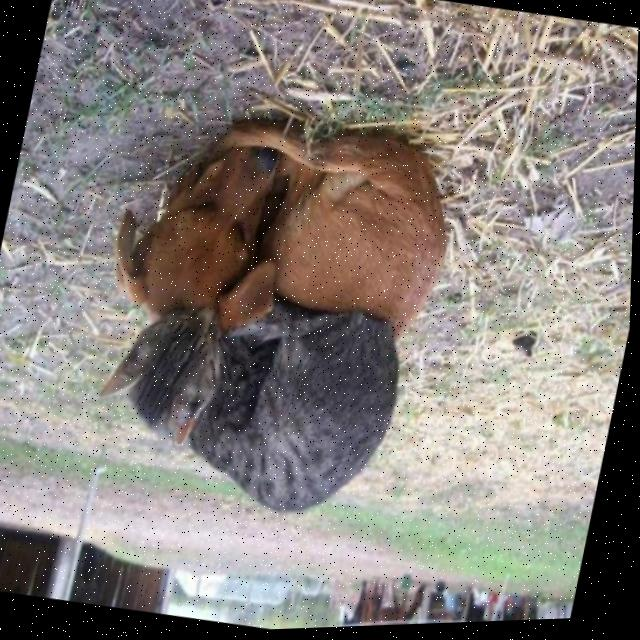Cats: (85, 261, 416, 532)
